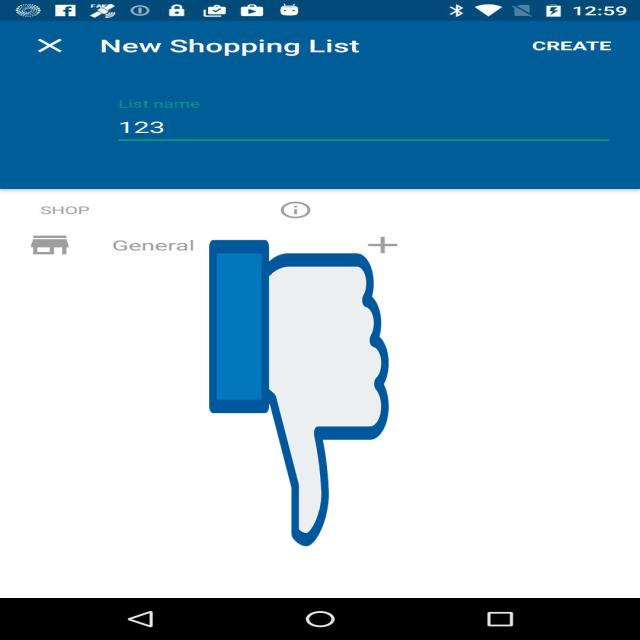obstruction: (209, 233, 389, 553)
